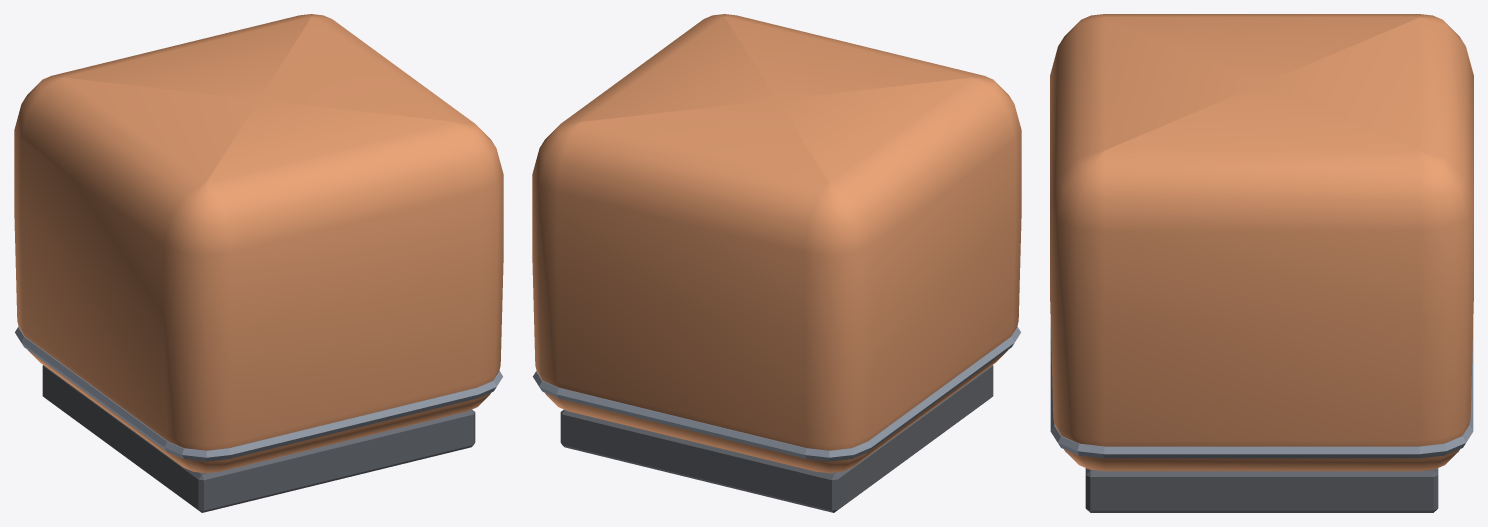
The model's file is downtown-office-interiors-ottoman-cube-accent-43162cd8__16993.glb.
3 renders of one model, left to right at view 1: azimuth 30°, elevation 25°; view 2: azimuth 150°, elevation 25°; view 3: azimuth 270°, elevation 25°, orthographic. The views are drawn at different scales.
Parts seen in each view (by area): view 1: ottoman-cube-accent; view 2: ottoman-cube-accent; view 3: ottoman-cube-accent.
Boxes of the visible parts, x1,y1,x2,y2 form: ottoman-cube-accent: [14, 14, 503, 512]; ottoman-cube-accent: [532, 14, 1021, 512]; ottoman-cube-accent: [1050, 14, 1473, 512].
Size of the model in its own units: 0.457 by 0.424 by 0.457.
